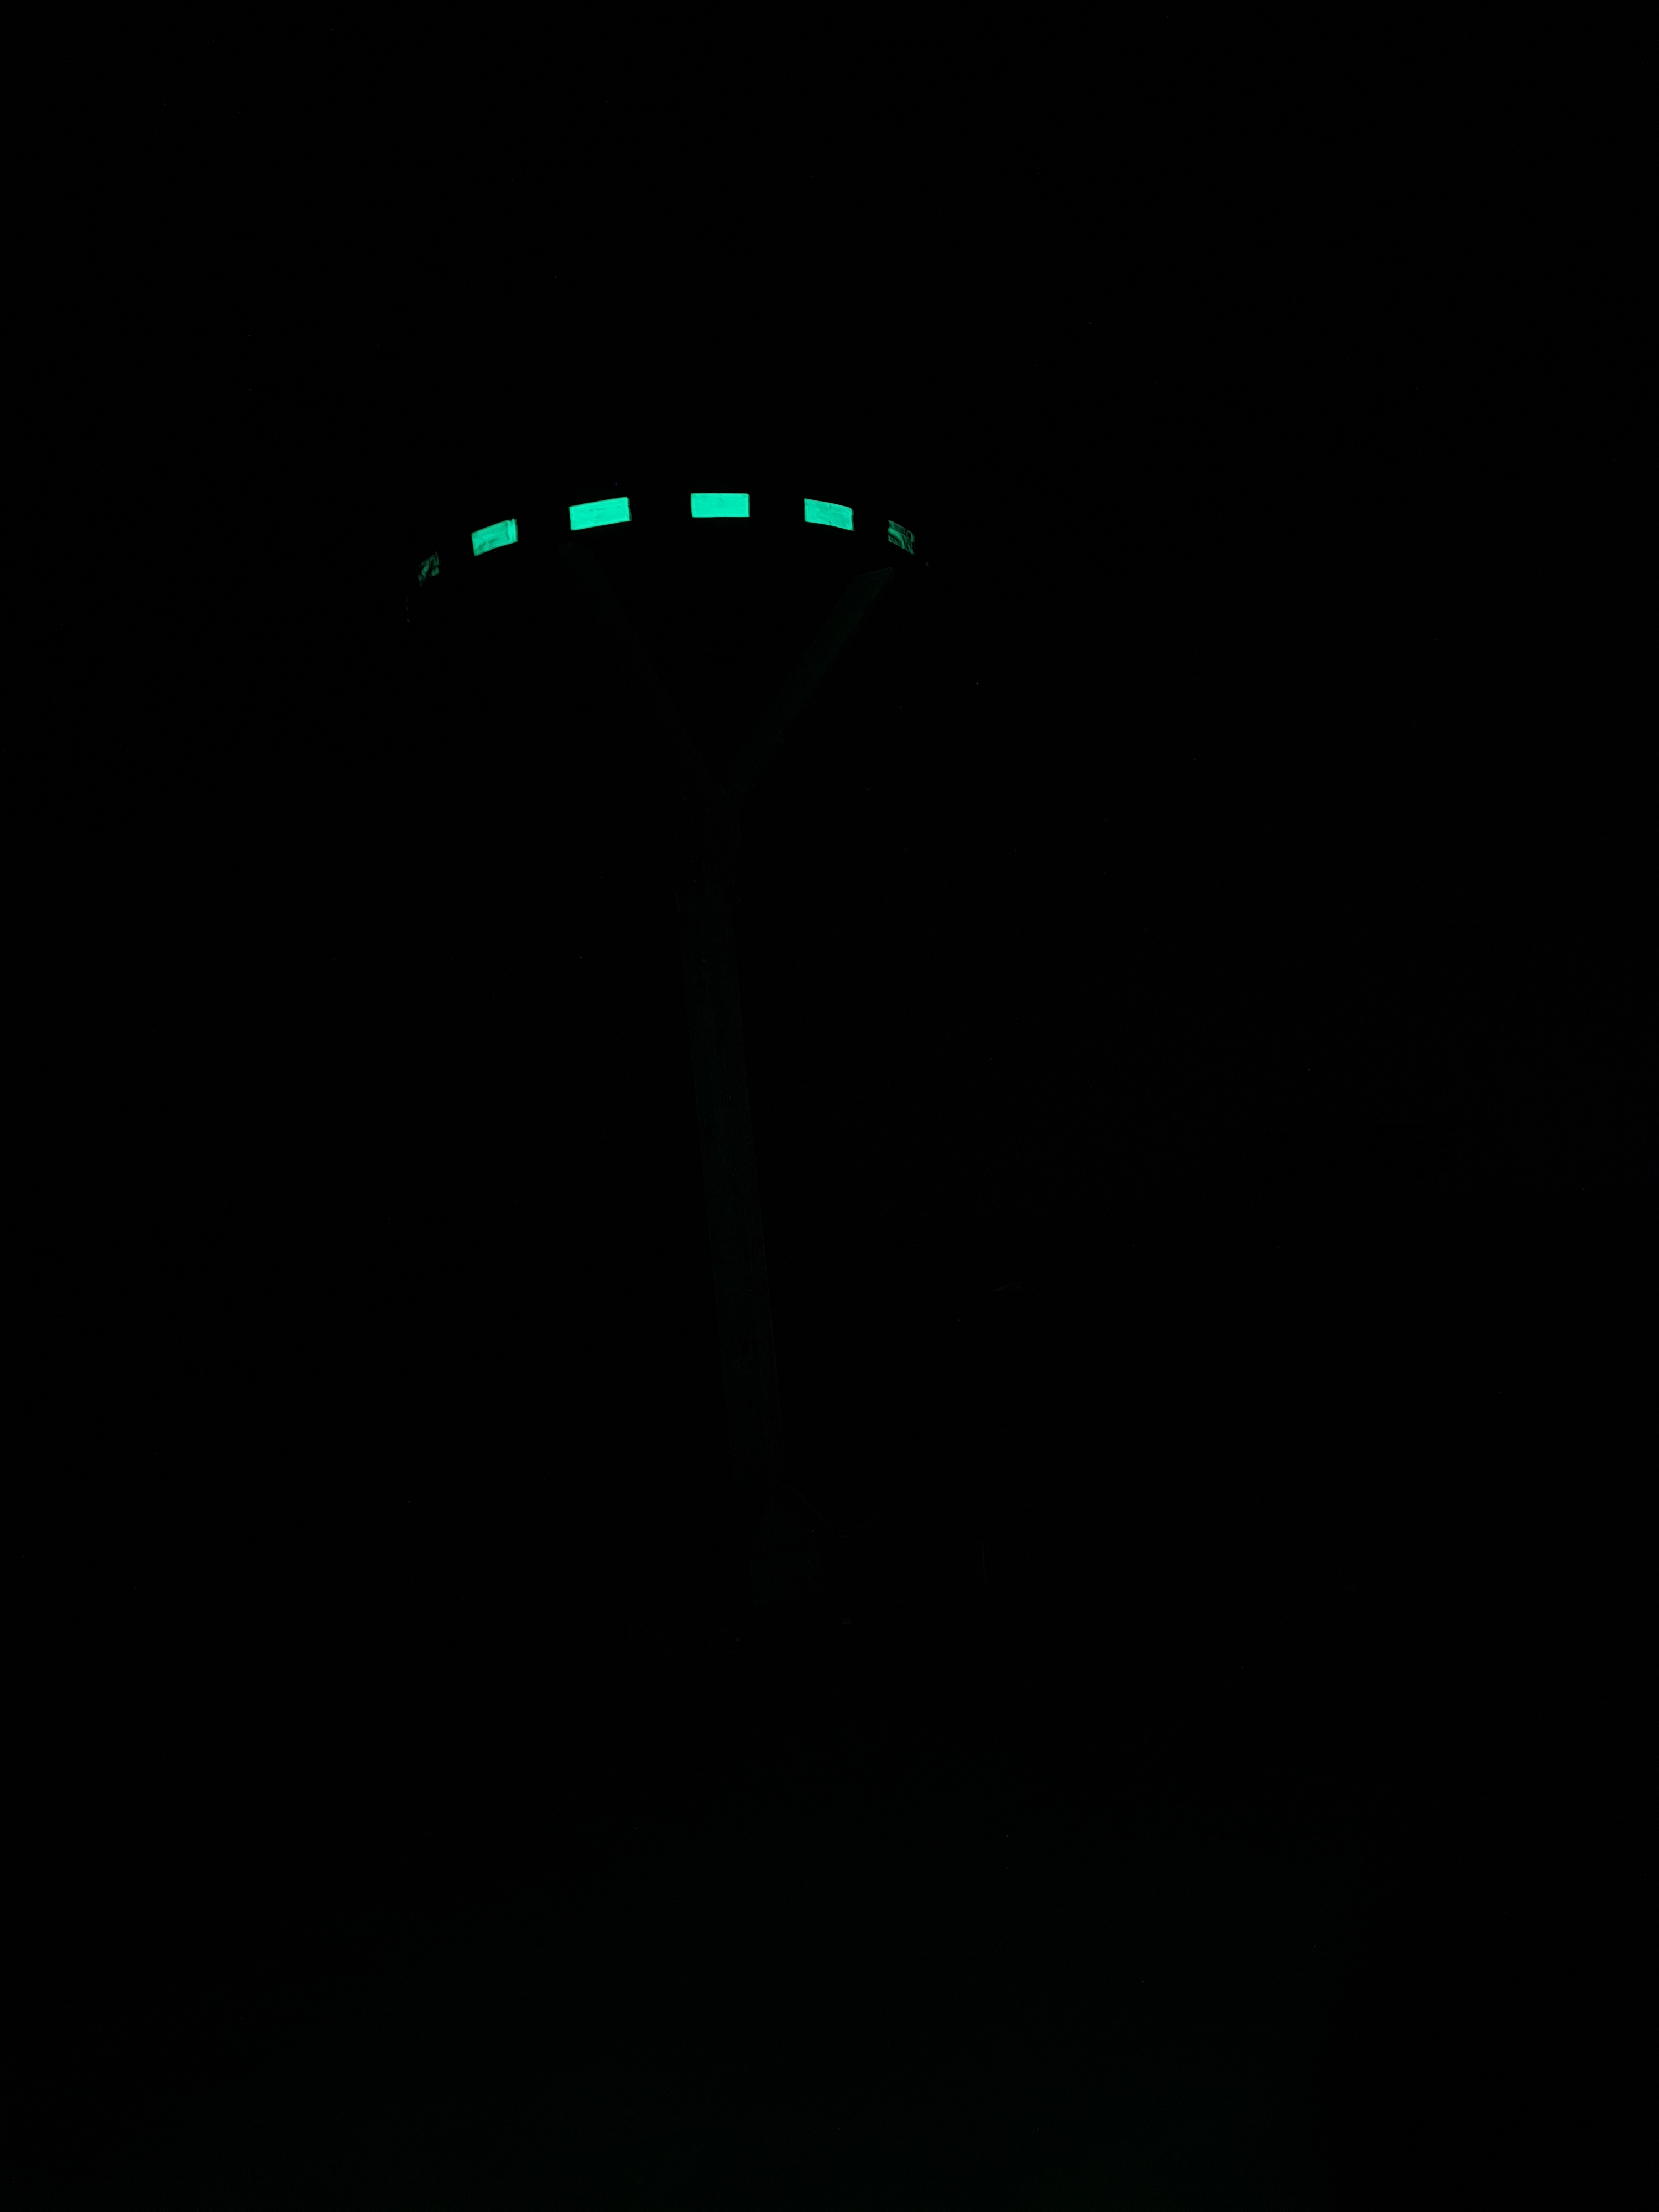hoop: (380, 474, 936, 599)
